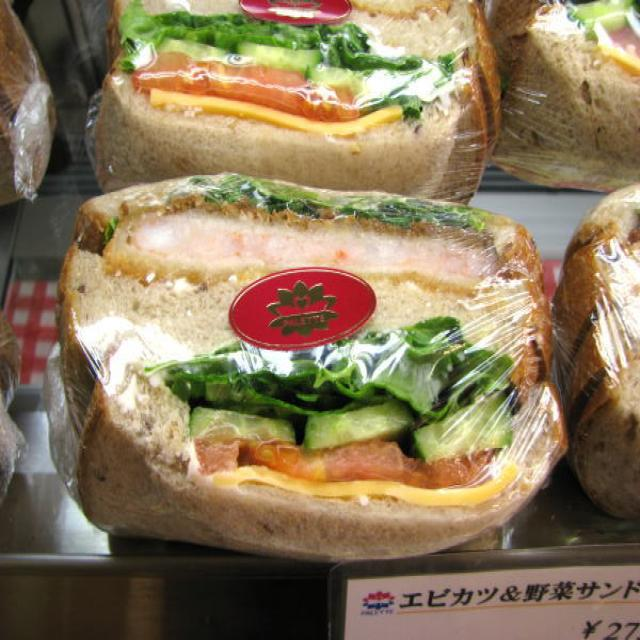三明治: (53, 213, 400, 640)
